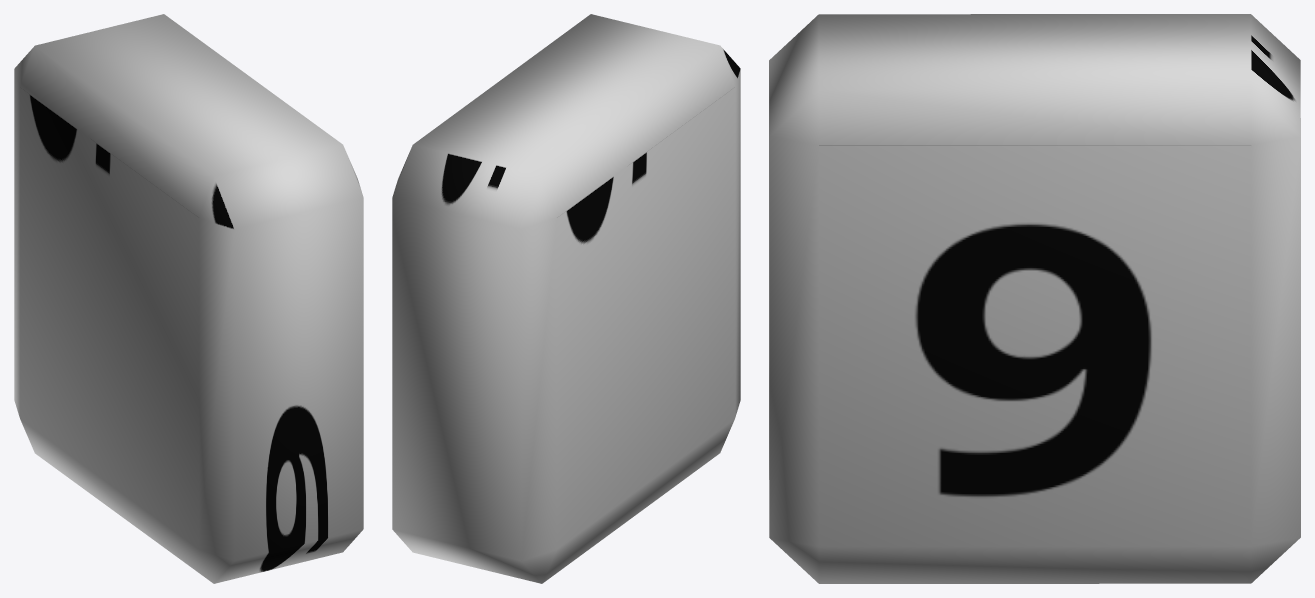
The model's file is Boton9.fbx.
3 views of the same model, side by side, from view 1: azimuth 30°, elevation 25°; view 2: azimuth 150°, elevation 25°; view 3: azimuth 270°, elevation 25° (orthographic). The views are drawn at different scales.
Parts seen in each view (by area): view 1: Boton9; view 2: Boton9; view 3: Boton9.
Part boxes in pixels (box(x1,y1,x2,y2)): Boton9: box(14, 14, 363, 583); Boton9: box(392, 14, 740, 583); Boton9: box(769, 14, 1300, 583).
Bounding box in the file's own units: 1.36 × 3.32 × 3.25.
